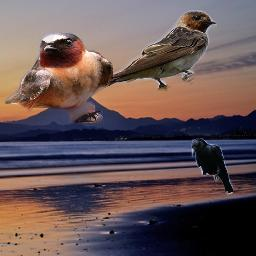Crow: (191, 138, 233, 195)
Swallow: (5, 33, 113, 123), (103, 9, 217, 92)
